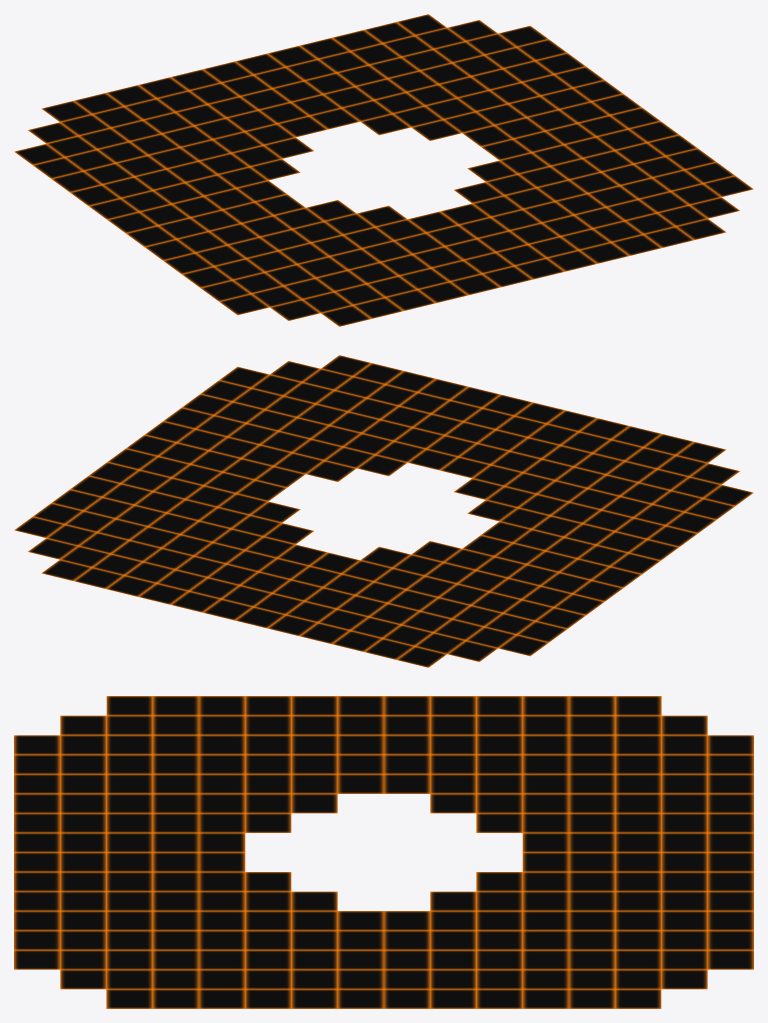
File: map1.fbx
3 views of the same model, one above another, from view 1: azimuth 30°, elevation 25°; view 2: azimuth 150°, elevation 25°; view 3: azimuth 270°, elevation 25° (orthographic). The views are drawn at different scales.
Parts seen in each view (by area): view 1: Plane; view 2: Plane; view 3: Plane.
Part boxes in pixels (x1=…): Plane: x1=14, y1=14, x2=753, y2=326; Plane: x1=14, y1=355, x2=753, y2=667; Plane: x1=14, y1=696, x2=753, y2=1008.
Bounding box in the file's own units: 128 × 8e-06 × 128.
1 material, 1 textured.
